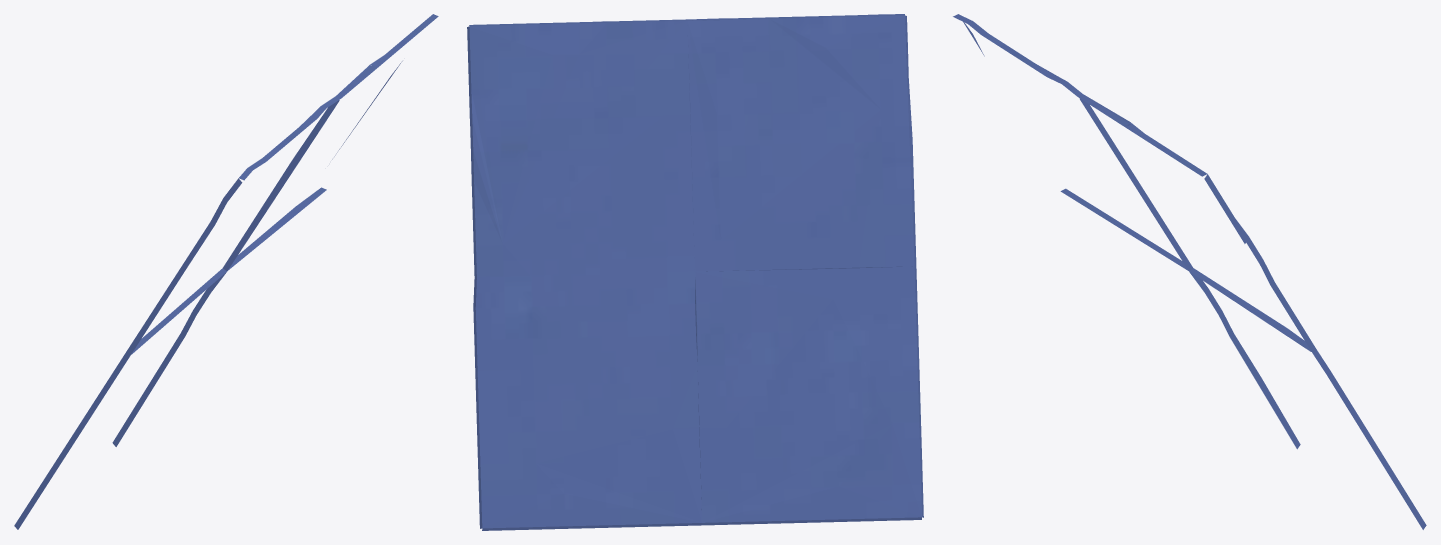
3 views of the same model, side by side, from view 1: azimuth 30°, elevation 25°; view 2: azimuth 150°, elevation 25°; view 3: azimuth 270°, elevation 25° (orthographic). The views are drawn at different scales.
Size of the model in its own units: 79070 by 68904 by 70930.
1 material, 1 textured.
